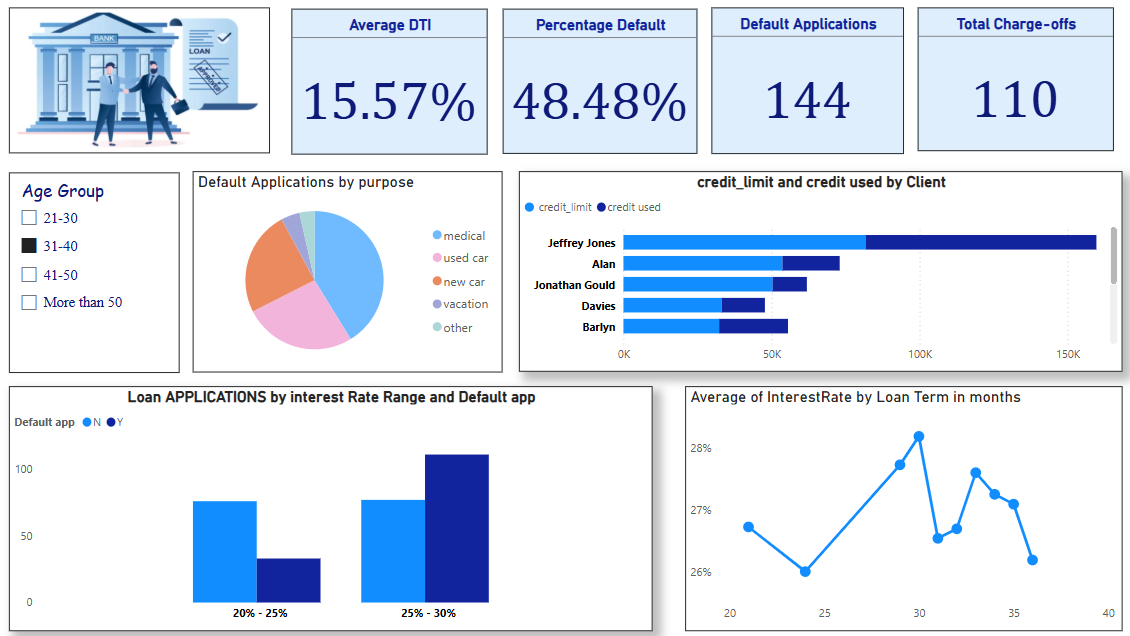

What the dashboard file says about the page in this screenshot:
{"tool":"powerbi","page":{"name":"Page 2","canvas":[1280,720],"ordinal":1},"visuals":[{"type":"clusteredColumnChart","fields":{"Category":["Table.interest Rate Range"],"Series":["Table.Default app"],"Y":["calculations.# OF APPLICATIONS"]},"box":[22,435,706.7,269],"z":0},{"type":"areaChart","fields":{"Category":["Table.Loan Term in months"],"Y":["Table.InterestRate"]},"box":[764.3,435,480.3,269],"z":1000},{"type":"slicer","fields":{"Values":["Table.Age Group"]},"box":[22,200.5,187.1,220.1],"z":2000},{"type":"image","box":[22,19.6,286.1,160.2],"z":3000},{"type":"card","title":"Total Charge-offs","fields":{"Values":["calculations.# OF Chargesoffs"]},"box":[1019.8,19.6,215.2,157.7],"z":4000},{"type":"card","title":" Default Applications","fields":{"Values":["calculations.# of Default Applications"]},"box":[793.1,19.2,211.3,160.5],"z":5000},{"type":"pieChart","fields":{"Category":["Table.purpose"],"Y":["calculations.# of Default Applications"]},"box":[223.7,199,340.3,220.9],"z":6000},{"type":"barChart","title":" credit_limit and credit used by Client","fields":{"Category":["Table 2.Name"],"Y":["Table 2.credit_limit","calculations.credit used"]},"box":[582.1,199.3,662.8,220.1],"z":7000},{"type":"card","title":"Percentage Default","fields":{"Values":["calculations.Percentage Defa"]},"box":[563.7,20.8,214,159],"z":8000},{"type":"card","title":"Average DTI","fields":{"Values":["Table.Dti"]},"box":[332.6,20.8,215.2,160.2],"z":9000}]}

Visuals, with their boxes in screenshot pixels (x1, y1, x2, y2), scaled from the page's 1280x720 canvas onto the 1130x636 screenshot:
clusteredColumnChart - Table.interest Rate Range x Table.Default app: [19, 384, 643, 622]
areaChart - Table.Loan Term in months x Table.InterestRate: [675, 384, 1099, 622]
slicer - Table.Age Group: [19, 177, 185, 372]
image: [19, 17, 272, 159]
"Total Charge-offs" card: [900, 17, 1090, 157]
" Default Applications" card: [700, 17, 887, 159]
pieChart - Table.purpose x calculations.# of Default Applications: [197, 176, 498, 371]
" credit_limit and credit used by Client" barChart: [514, 176, 1099, 370]
"Percentage Default" card: [498, 18, 687, 159]
"Average DTI" card: [294, 18, 484, 160]
